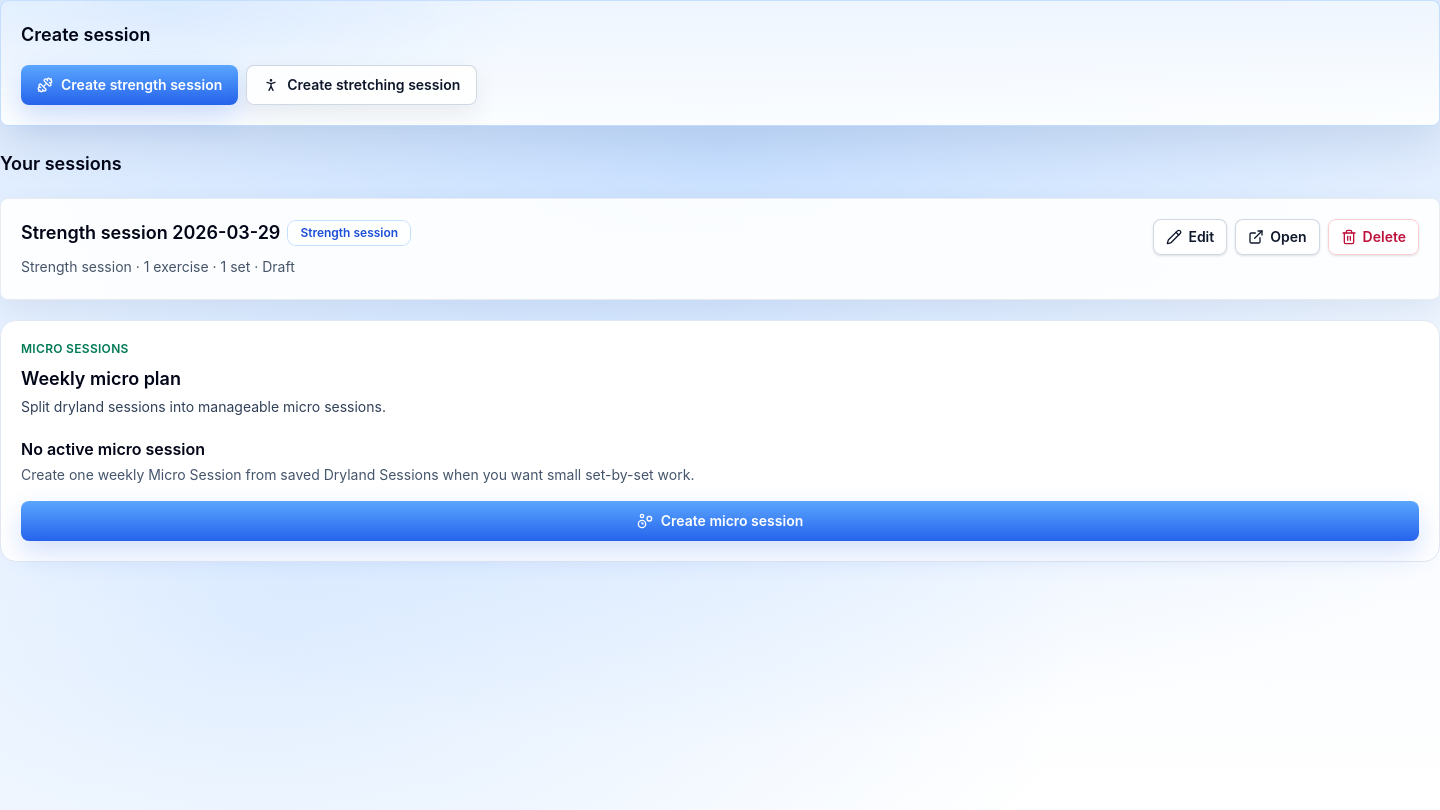
Test: DrylandBuilderHub › hides the normal saved-session list while choosing micro plan sources
Check: the link "Open" is shown, box [1235,219,1320,255]
Check: the link "Edit" is shown, box [1153,219,1227,255]
Click the button with test id "dryland-micro-start-create" at [720, 521], box [21,501,1419,541]
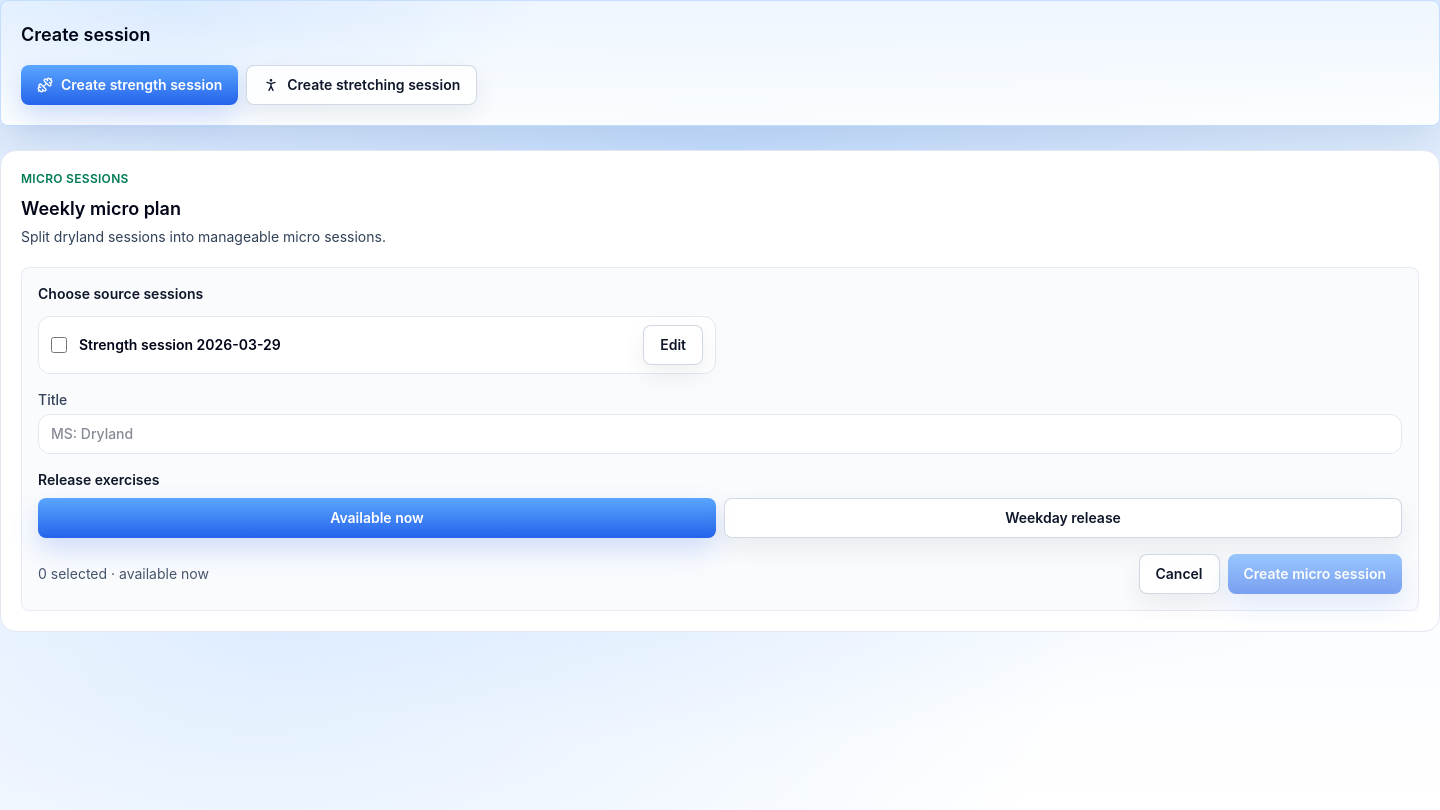
Check: the text "Choose source sessions" is shown, box [38,285,203,302]
Check: the link "Open" is gone
Check: the button with test id "dryland-delete-session-11111111-1111-4111-8111-111111111111" is gone
